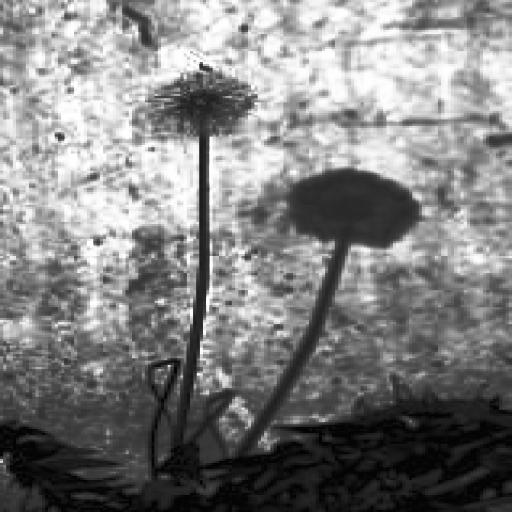dandelion: (148, 66, 251, 135)
